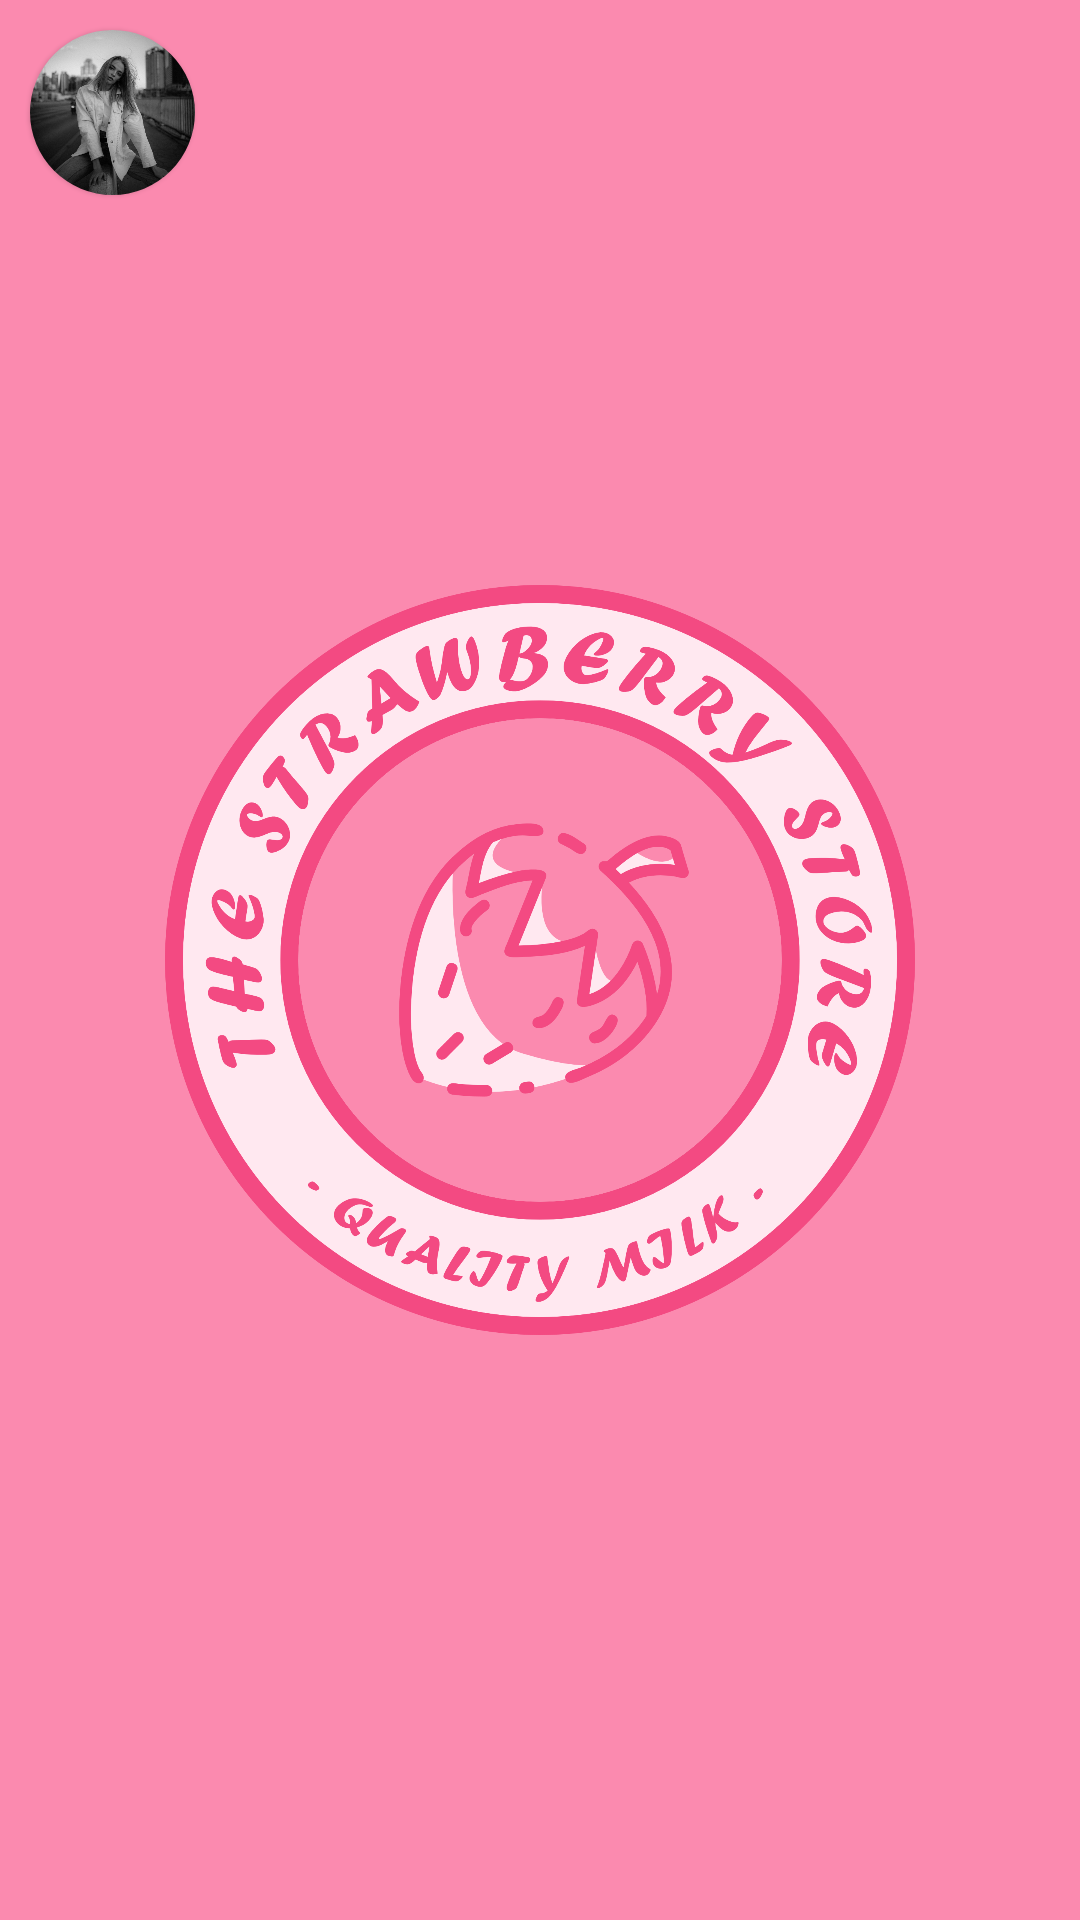

Icons on this 1080×1920 Android screen, each with the point to tap as (x,y):
user: (112,112)
